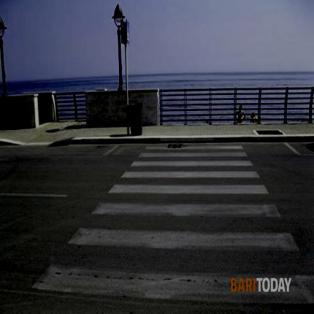Paso de Cebra: (104, 169, 274, 200), (135, 142, 251, 160)
